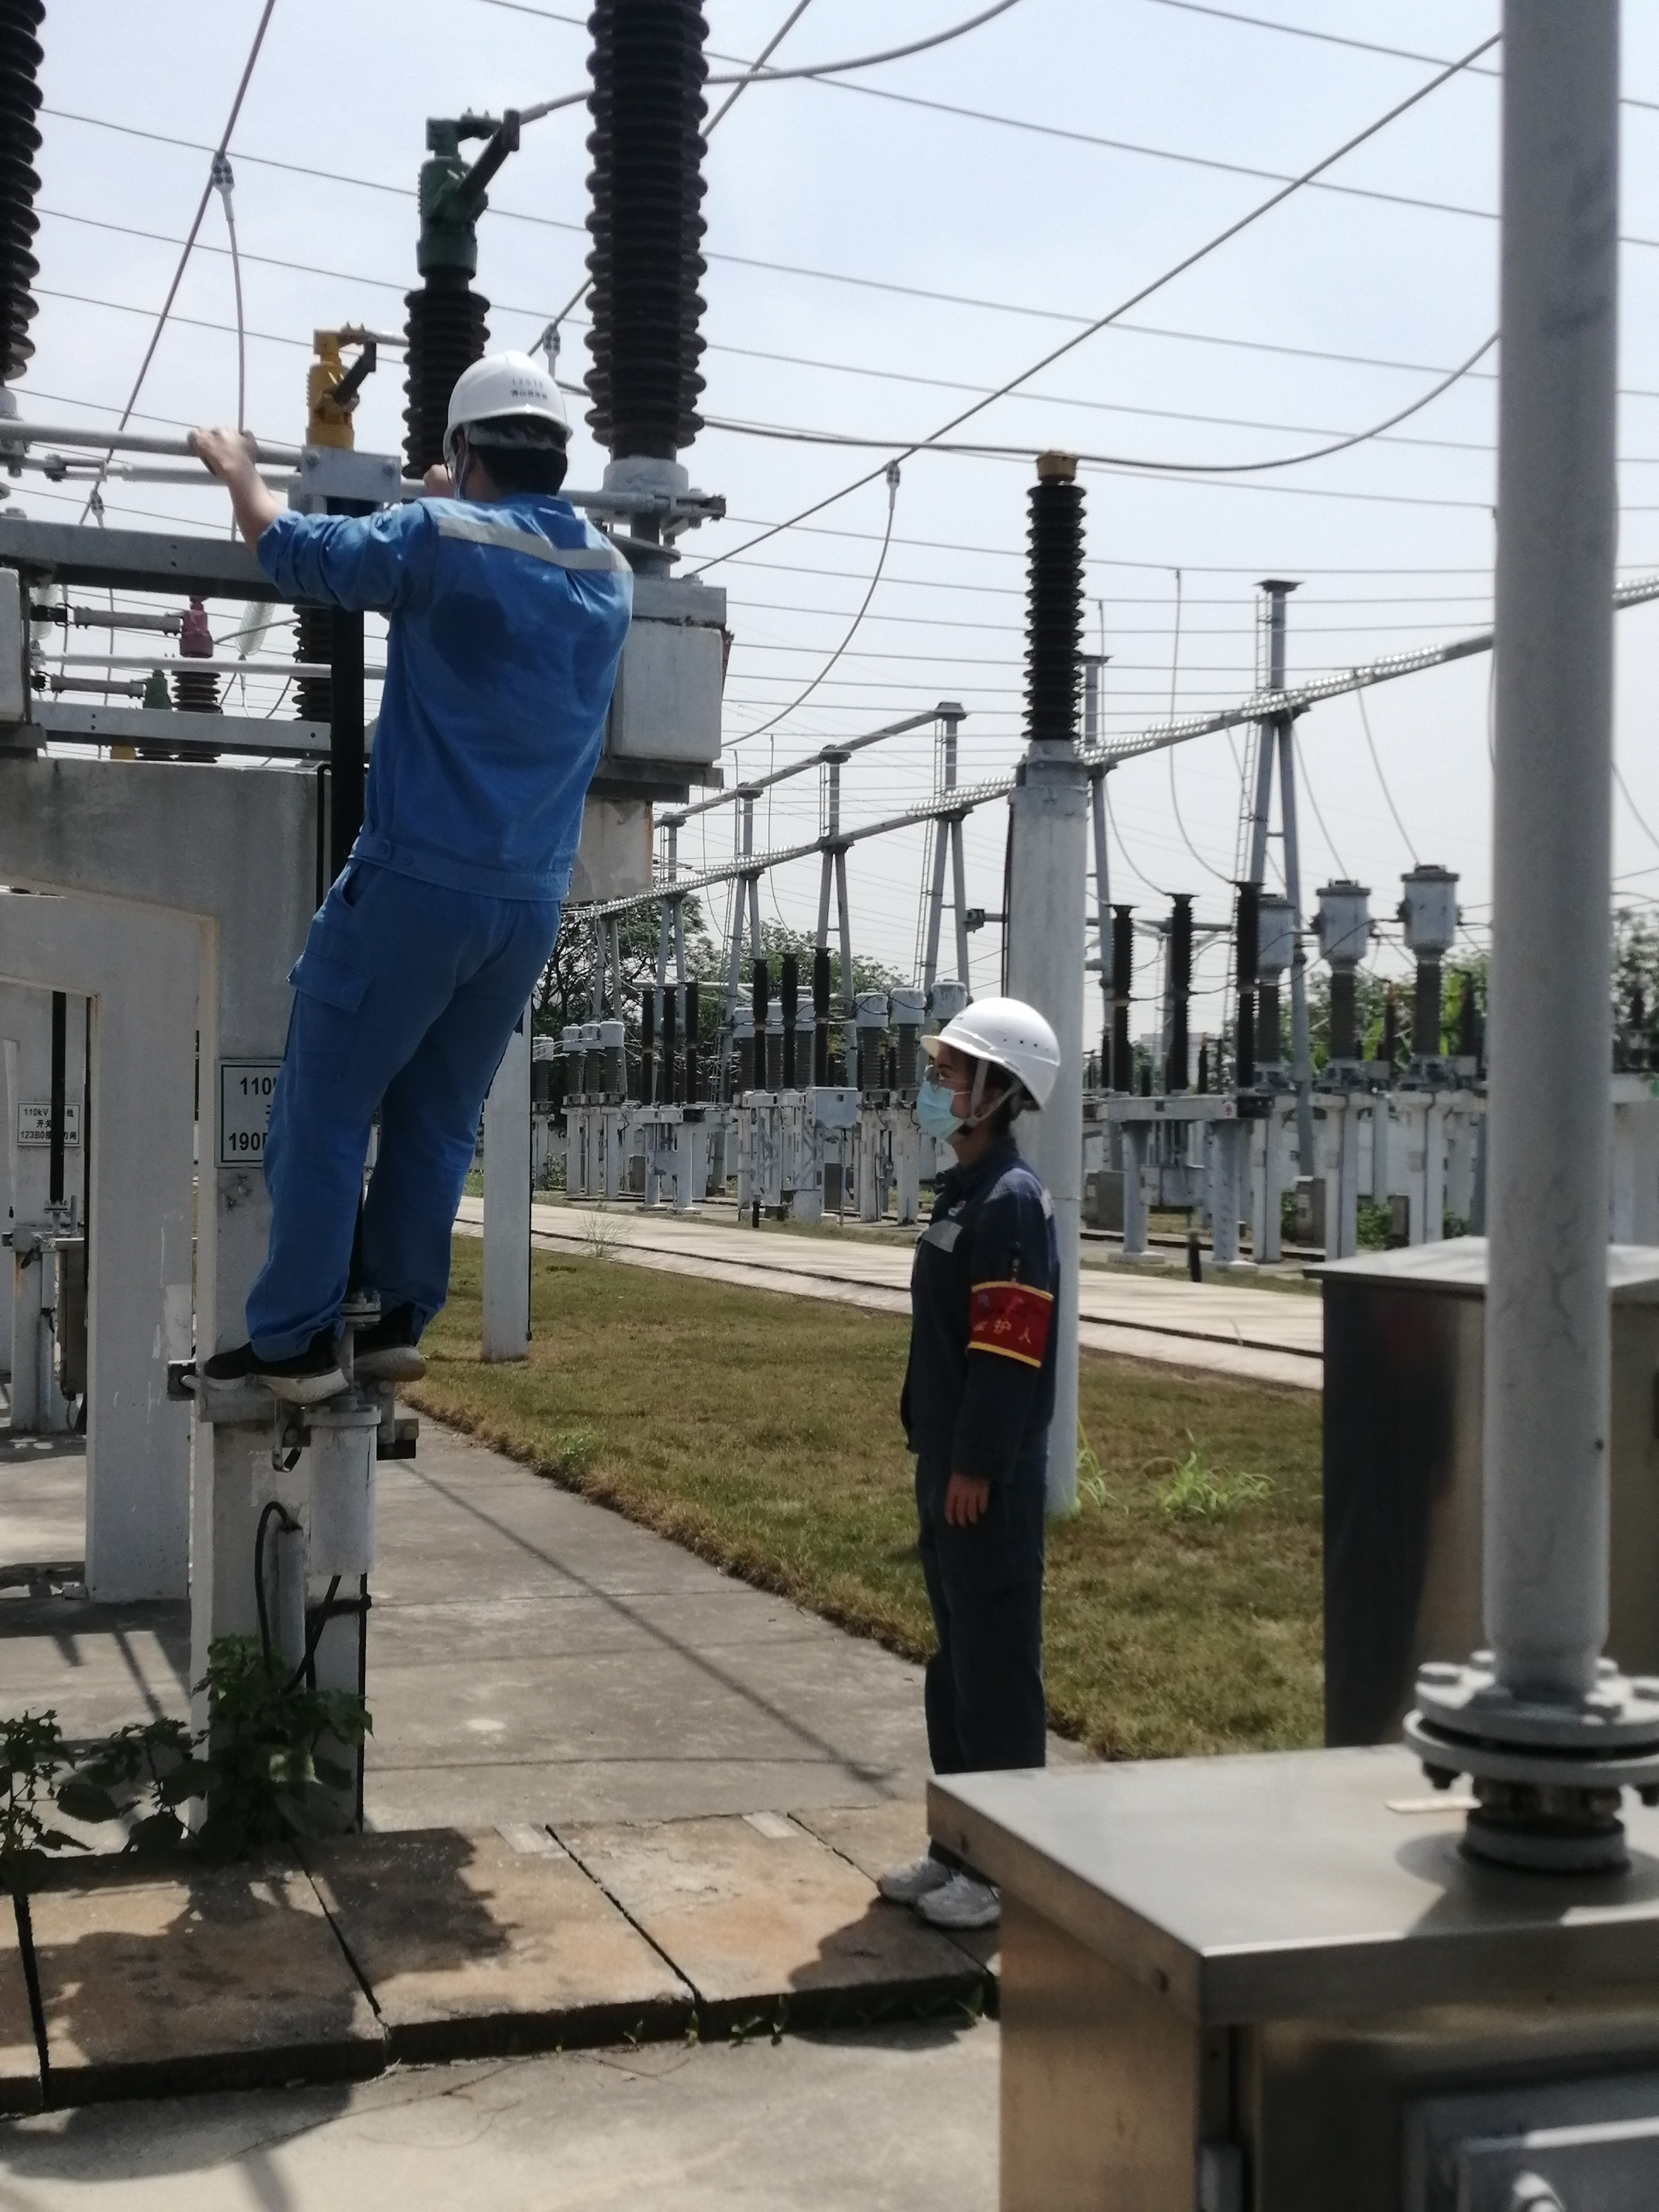downsuit: (244, 911, 563, 1350), (913, 1491, 1049, 1892)
upsuit: (265, 488, 638, 892), (903, 1150, 1073, 1482)
wrongtop: (192, 420, 328, 585)
